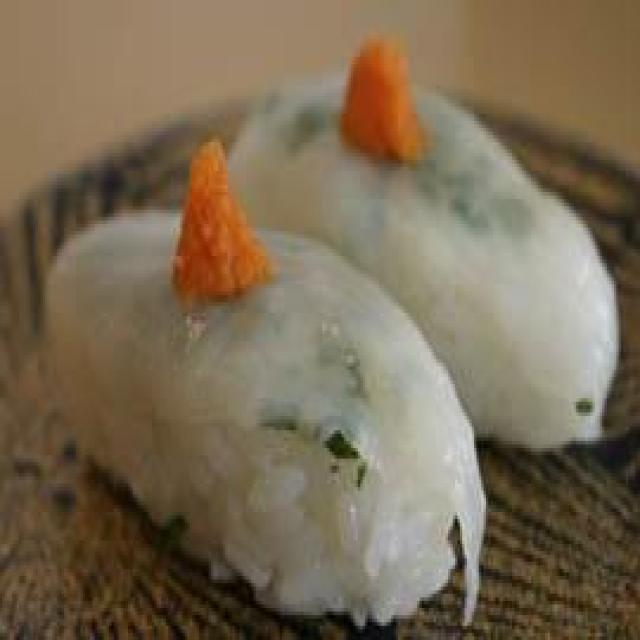寿司卷物: (28, 28, 621, 622)
